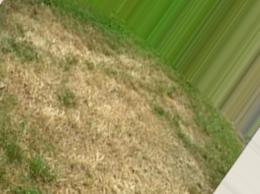patch: (38, 84, 113, 121), (118, 88, 176, 134), (42, 45, 104, 79), (49, 130, 104, 165), (120, 145, 177, 176), (10, 169, 57, 192), (58, 167, 96, 194), (19, 22, 59, 35), (137, 180, 171, 194), (12, 92, 29, 119), (10, 62, 29, 83), (101, 174, 116, 187)
